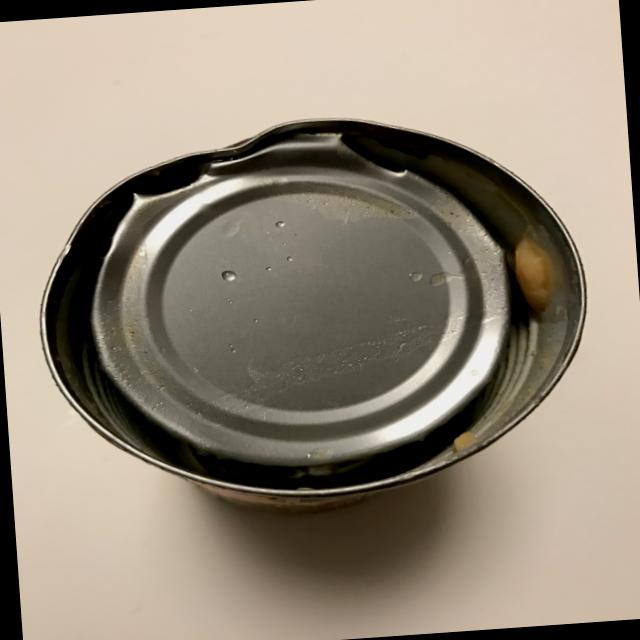Metal: (21, 96, 616, 543)
